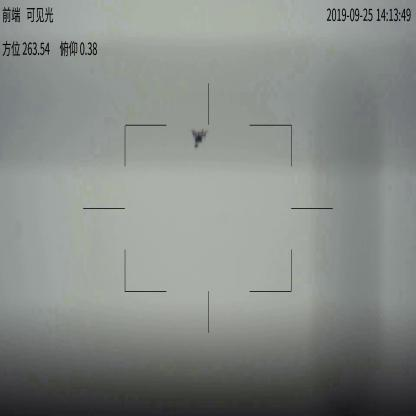uav: (191, 126, 208, 152)
